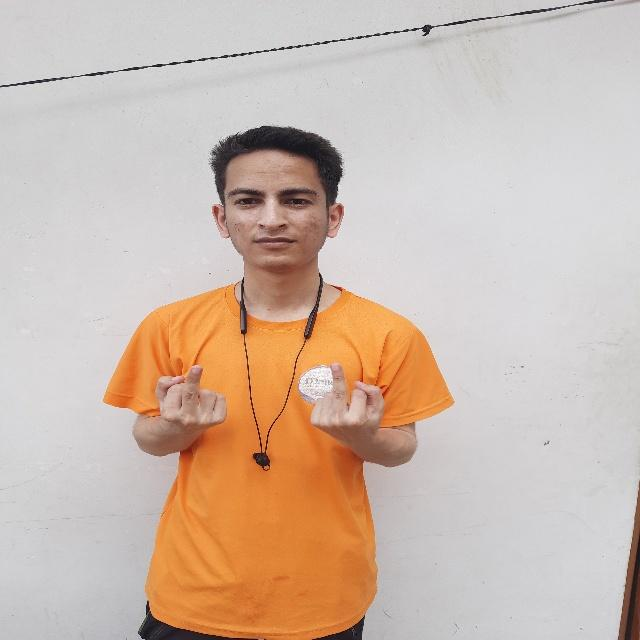Middle Finger: (302, 358, 388, 446), (149, 353, 232, 443)
